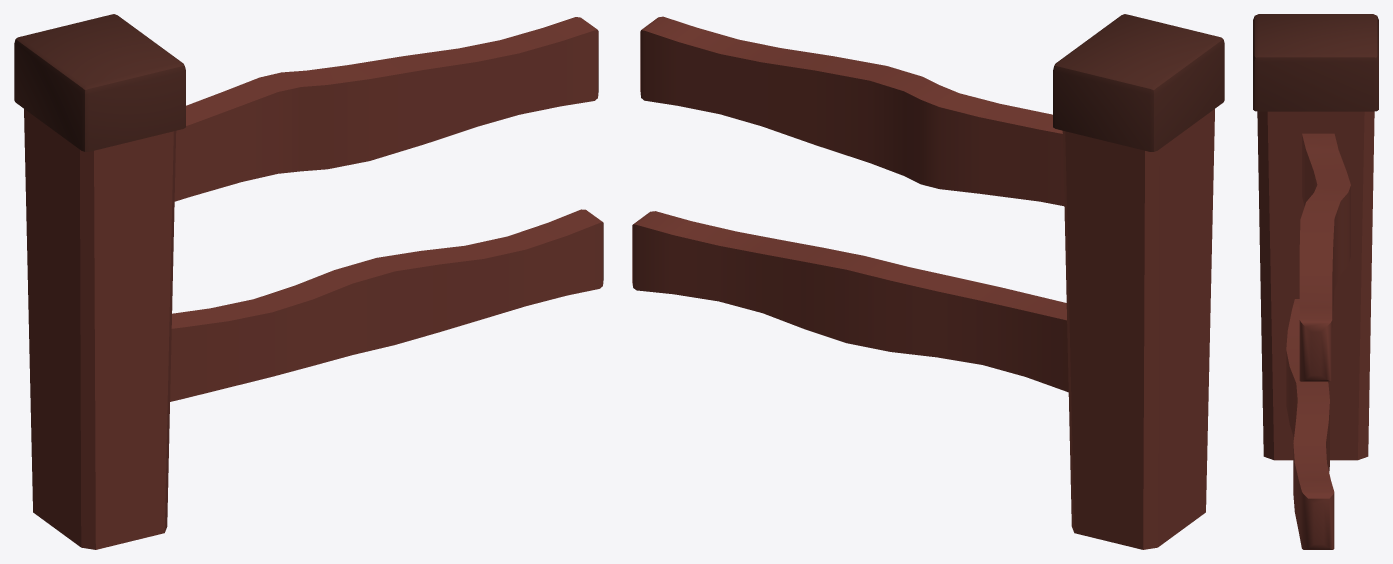
The model's file is fence05.fbx.
3 renders of one model, left to right at view 1: azimuth 30°, elevation 25°; view 2: azimuth 150°, elevation 25°; view 3: azimuth 270°, elevation 25°, orthographic. The views are drawn at different scales.
Visible parts, largest first — view 1: fence05; view 2: fence05; view 3: fence05.
Part boxes in pixels (<box>): fence05: <box>14,14,603,549</box>; fence05: <box>632,14,1224,549</box>; fence05: <box>1253,14,1378,549</box>.
Size of the model in its own units: 1.27 by 1.04 by 0.29.
